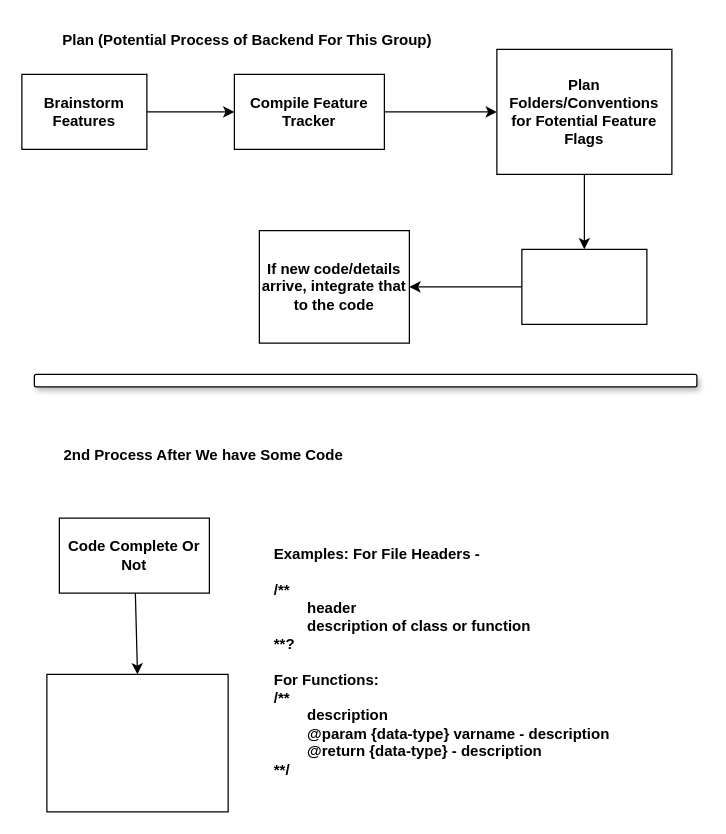
Some shapes in this 726 by 834 pixel diagram are drawn without their labels. The centre of each missing label's shape, as x and y in pixels:
"Get AI to Code Core Components" belongs at point (584, 286).
"Write/ Check Naming Conventions and documentation and Codesttyles" belongs at point (137, 742).
